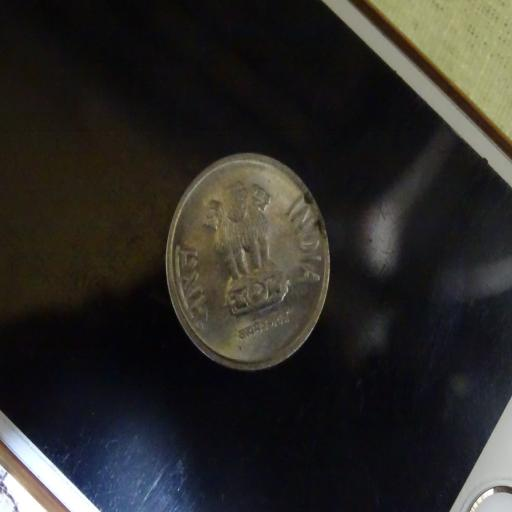rupee1: (159, 148, 336, 376)
